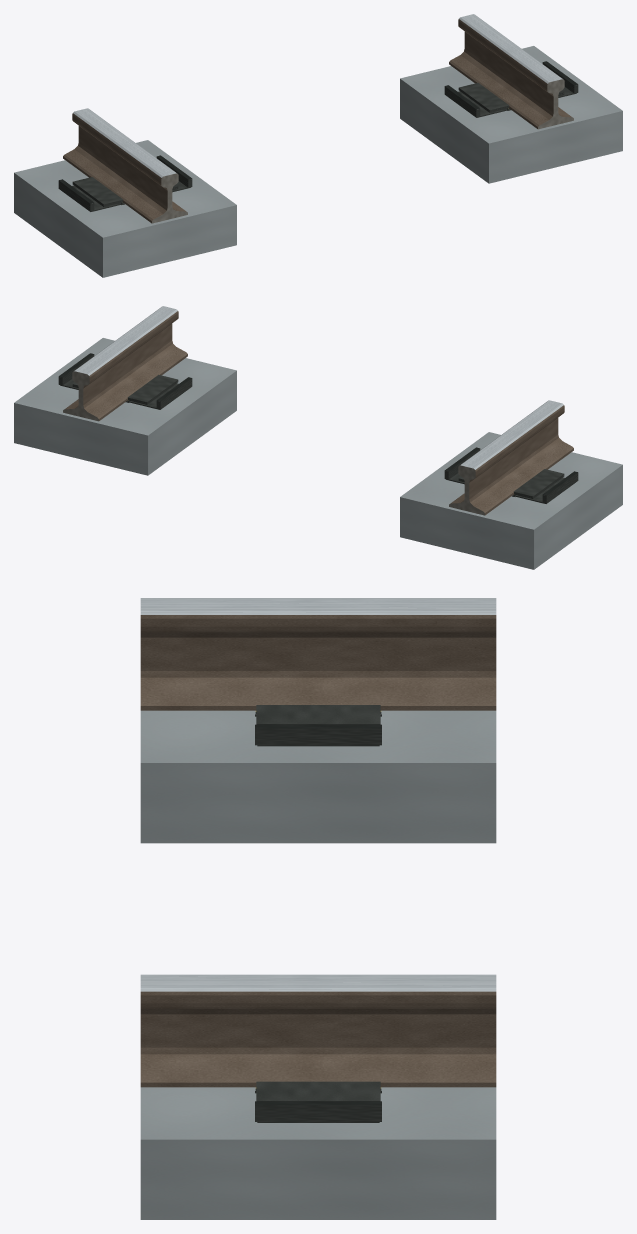
File: direct_mid.obj
3 renders of one model, top to bottom at view 1: azimuth 30°, elevation 25°; view 2: azimuth 150°, elevation 25°; view 3: azimuth 270°, elevation 25°, orthographic. The views are drawn at different scales.
Parts seen in each view (by area): view 1: direct_bearer, rail_right, rail_left, fastener_right, fastener_left, rail_left_end, rail_right_end; view 2: direct_bearer, rail_right, rail_left, fastener_right, fastener_left, rail_left_end, rail_right_end; view 3: direct_bearer, rail_right, rail_left, fastener_left, fastener_right.
Part boxes in pixels (x1=…): direct_bearer: x1=14, y1=46, x2=622, y2=277; rail_right: x1=449, y1=14, x2=571, y2=128; rail_left: x1=63, y1=108, x2=186, y2=223; fastener_right: x1=444, y1=61, x2=578, y2=117; fastener_left: x1=58, y1=155, x2=192, y2=211; rail_left_end: x1=152, y1=173, x2=187, y2=223; rail_right_end: x1=538, y1=79, x2=573, y2=129; direct_bearer: x1=14, y1=338, x2=622, y2=569; rail_right: x1=65, y1=306, x2=187, y2=420; rail_left: x1=450, y1=400, x2=573, y2=515; fastener_right: x1=58, y1=353, x2=192, y2=409; fastener_left: x1=444, y1=447, x2=578, y2=503; rail_left_end: x1=449, y1=465, x2=484, y2=515; rail_right_end: x1=63, y1=371, x2=98, y2=421; direct_bearer: x1=140, y1=710, x2=496, y2=1219; rail_right: x1=140, y1=974, x2=496, y2=1087; rail_left: x1=140, y1=598, x2=496, y2=710; fastener_left: x1=255, y1=705, x2=381, y2=746; fastener_right: x1=255, y1=1081, x2=381, y2=1122.
Size of the model in its own units: 2.03 by 0.3224 by 0.6.
